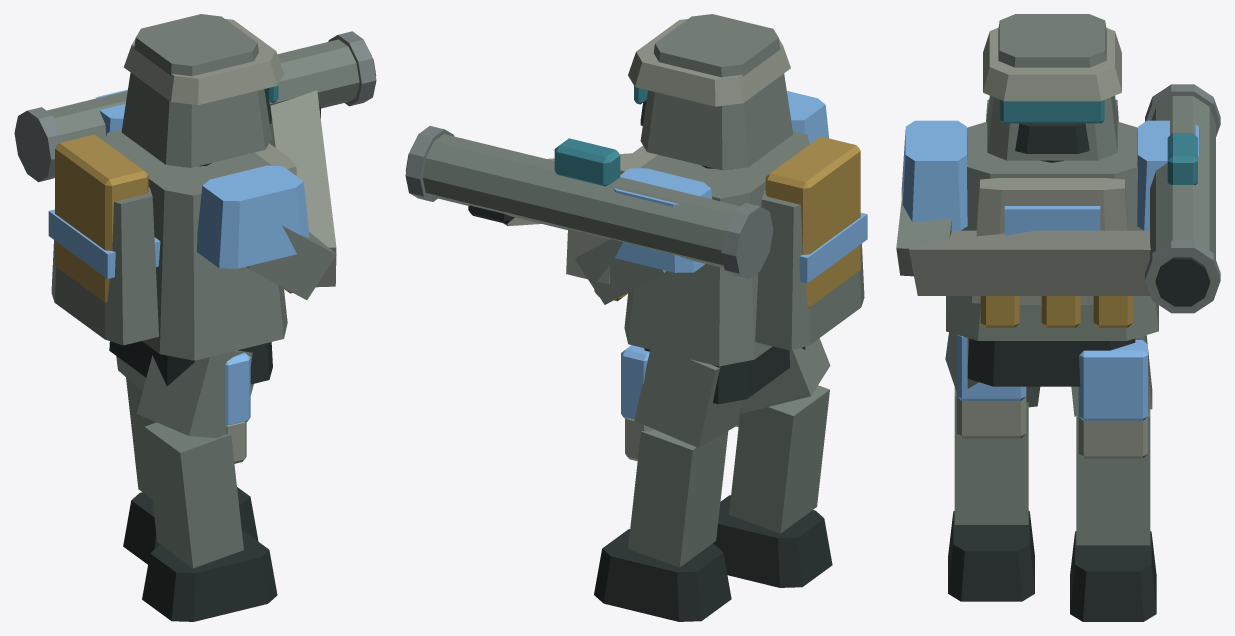
File: rocket_trooper.glb
3 renders of one model, left to right at view 1: azimuth 30°, elevation 25°; view 2: azimuth 150°, elevation 25°; view 3: azimuth 270°, elevation 25°, orthographic. The views are drawn at different scales.
Visible parts, largest first — view 1: rocket_trooper; view 2: rocket_trooper; view 3: rocket_trooper.
Boxes of the visible parts, x1,y1,x2,y2 form: rocket_trooper: (14,14,376,621); rocket_trooper: (405,14,867,621); rocket_trooper: (896,14,1220,621).
Size of the model in its own units: 0.9525 by 1.39 by 0.7461.
